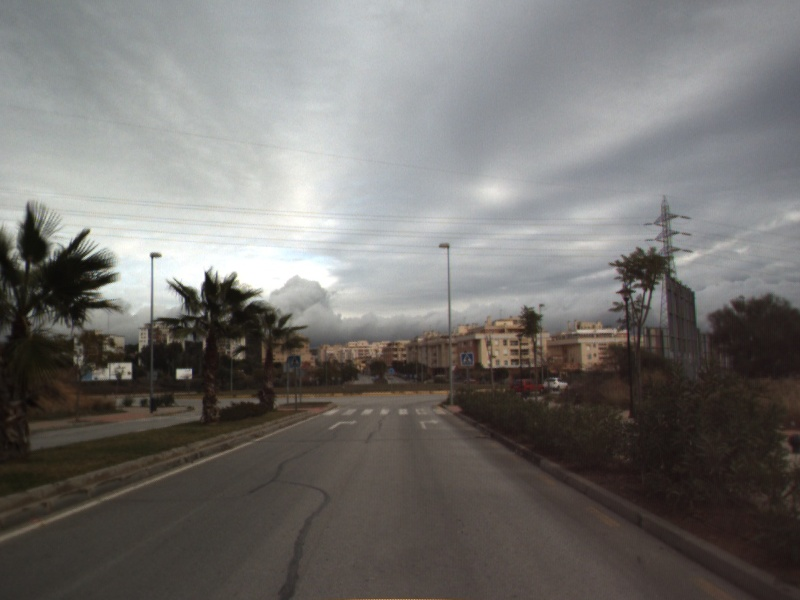RIGHT: (327, 418, 360, 431), (418, 417, 442, 431)
